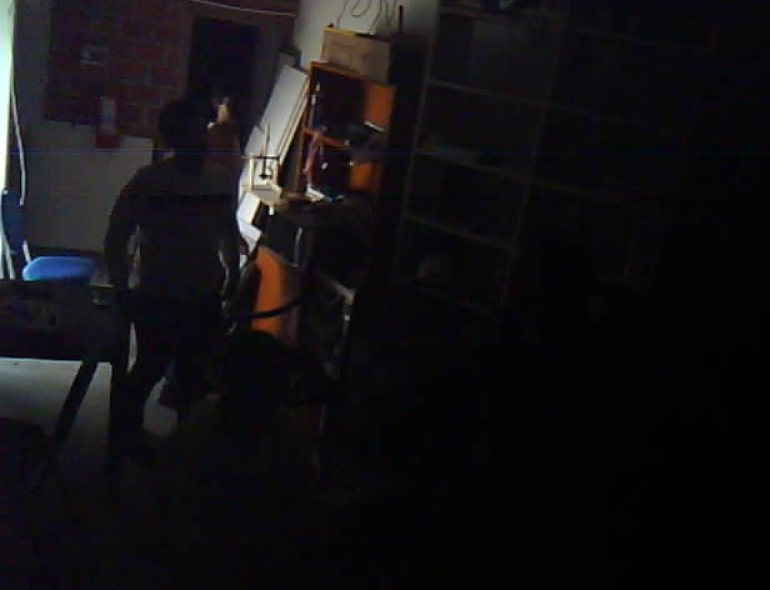person: (67, 97, 209, 521), (179, 60, 284, 341)
